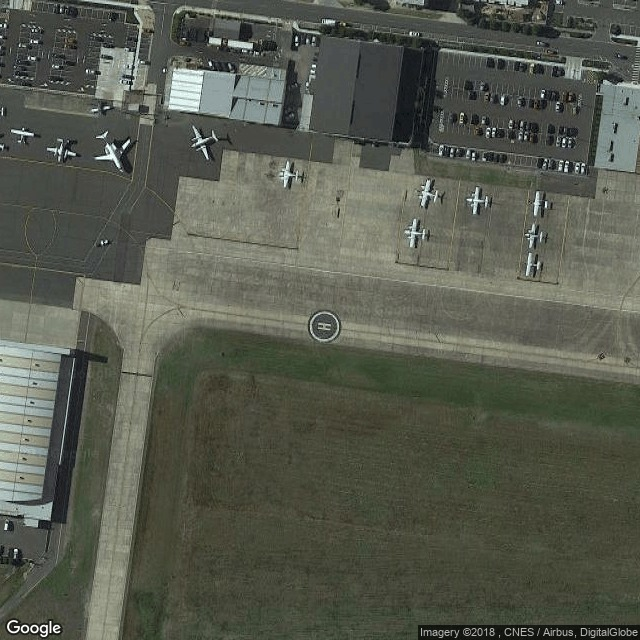heliport: (315, 319, 333, 332)
